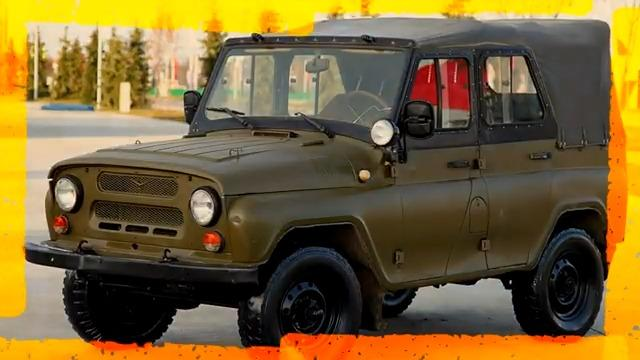MIL_HMMWV: (24, 17, 629, 343)
